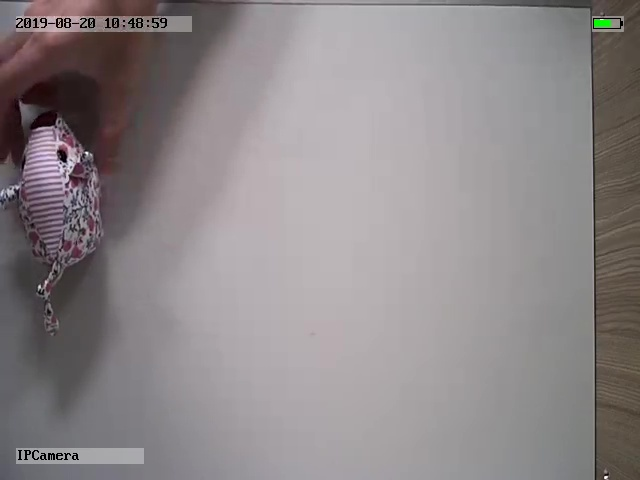pig: (1, 114, 107, 338)
